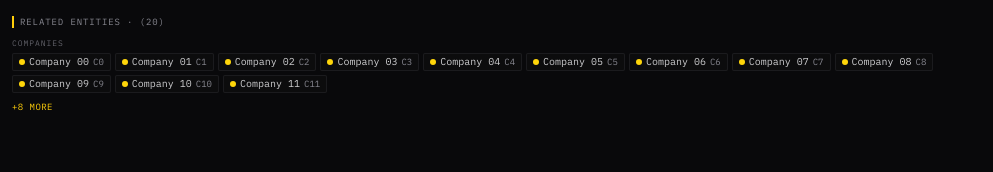
it: RelatedEntitiesPanel › caps visible chips at 12 with a +N more expander, expands on click
This screenshot has width=993, height=172.
Click the button "+8 more" at [32, 108], box [12,101,53,114]
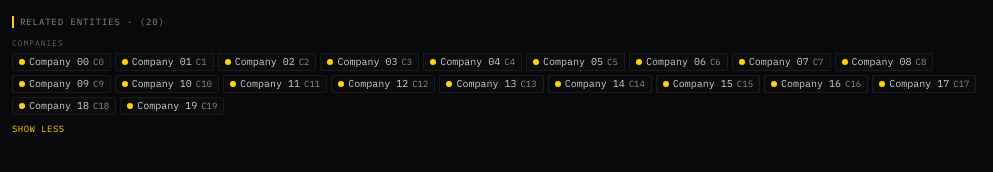
Expected: the number of buttons named "Open instrument page" is 20
Expected: the button "Show less" is shown, [12,123,65,136]
